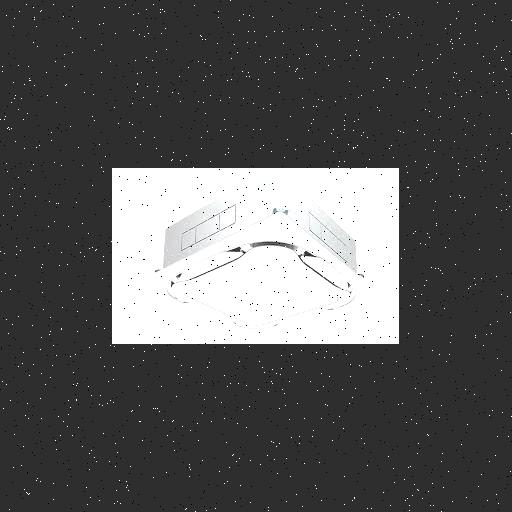4-way-ac: (138, 213, 383, 333)
